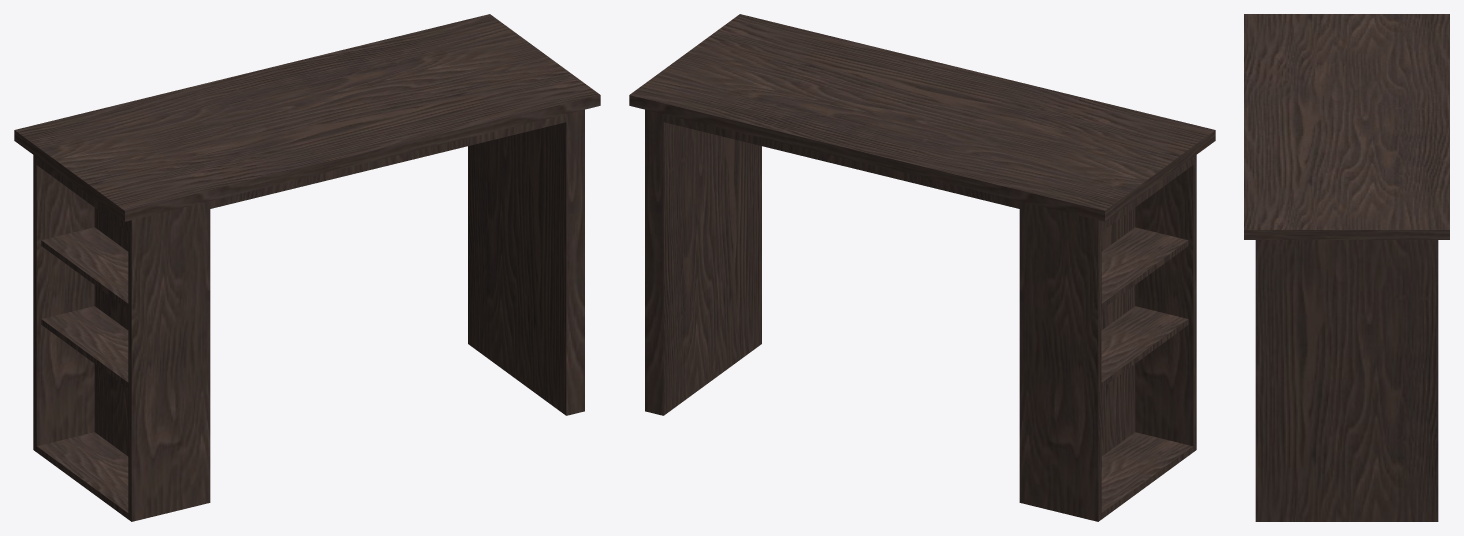
File: Table_14.glb
3 views of the same model, side by side, from view 1: azimuth 30°, elevation 25°; view 2: azimuth 150°, elevation 25°; view 3: azimuth 270°, elevation 25° (orthographic). The views are drawn at different scales.
Parts seen in each view (by area): view 1: Table_14; view 2: Table_14; view 3: Table_14.
Part boxes in pixels (x1,y1,x2,y2): Table_14: (14,14,600,521); Table_14: (629,14,1215,521); Table_14: (1244,14,1449,521).
Size of the model in its own units: 1.55 by 0.9922 by 0.6247.
1 material, 1 textured.
